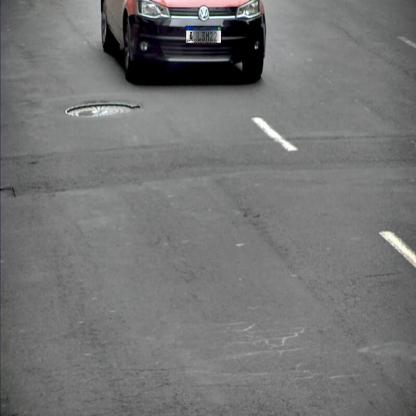PlacaM: (186, 26, 221, 43)
